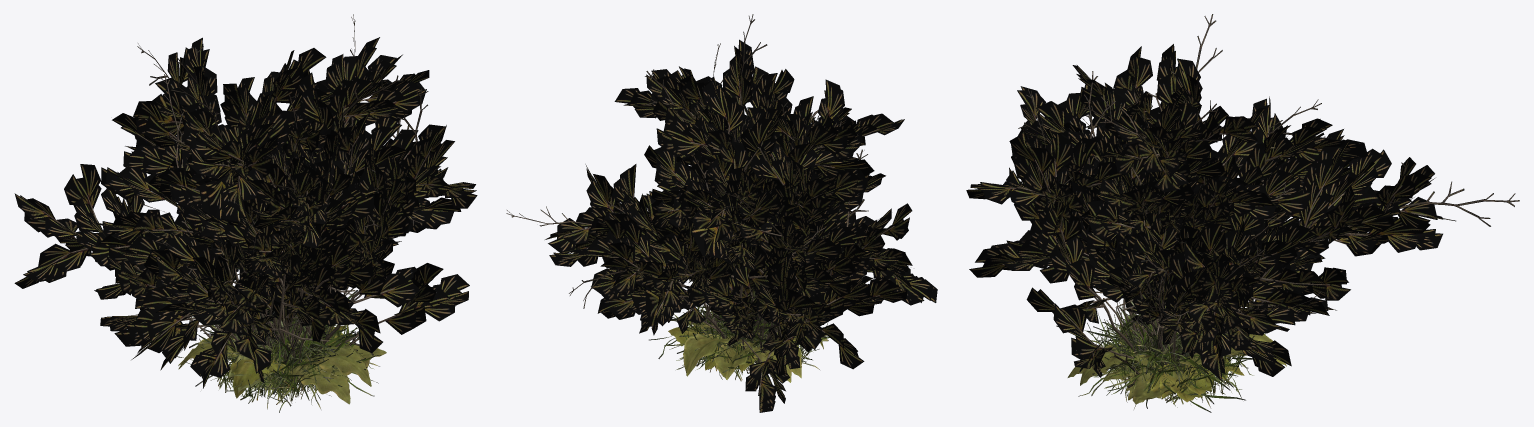
Rendered from templates.glb.
3 views of the same model, side by side, from view 1: azimuth 30°, elevation 25°; view 2: azimuth 150°, elevation 25°; view 3: azimuth 270°, elevation 25° (orthographic). The views are drawn at different scales.
Visible parts, largest first — view 1: wild_rooibos_bush/wild_rooibos_bush_a, wild_rooibos_bush/wild_rooibos_bush_b, wild_rooibos_bush/wild_rooibos_bush_c, grass_medium_01/grass_medium_01_large_a_LOD0, crystalline_iceplant/crystalline_iceplant_b_LOD0, wild_rooibos_bush/wild_rooibos_bush_d, crystalline_iceplant/crystalline_iceplant_a_LOD0, crystalline_iceplant/crystalline_iceplant_c_LOD0, grass_medium_01/grass_medium_01_large_c_LOD0, grass_medium_01/grass_medium_01_large_b_LOD0, wild_rooibos_bush/wild_rooibos_bush_e; view 2: wild_rooibos_bush/wild_rooibos_bush_a, wild_rooibos_bush/wild_rooibos_bush_b, wild_rooibos_bush/wild_rooibos_bush_c, wild_rooibos_bush/wild_rooibos_bush_d, grass_medium_01/grass_medium_01_large_a_LOD0, crystalline_iceplant/crystalline_iceplant_b_LOD0, crystalline_iceplant/crystalline_iceplant_a_LOD0, grass_medium_01/grass_medium_01_large_c_LOD0, wild_rooibos_bush/wild_rooibos_bush_e, grass_medium_01/grass_medium_01_large_b_LOD0; view 3: wild_rooibos_bush/wild_rooibos_bush_a, wild_rooibos_bush/wild_rooibos_bush_b, wild_rooibos_bush/wild_rooibos_bush_d, wild_rooibos_bush/wild_rooibos_bush_c, grass_medium_01/grass_medium_01_large_a_LOD0, crystalline_iceplant/crystalline_iceplant_a_LOD0, grass_medium_01/grass_medium_01_large_c_LOD0, grass_medium_01/grass_medium_01_large_b_LOD0, wild_rooibos_bush/wild_rooibos_bush_e, crystalline_iceplant/crystalline_iceplant_b_LOD0, crystalline_iceplant/crystalline_iceplant_c_LOD0.
Part boxes in pixels (box(x1,y1,x2,y2)): wild_rooibos_bush/wild_rooibos_bush_a: box(14, 14, 477, 388); wild_rooibos_bush/wild_rooibos_bush_b: box(100, 56, 469, 382); wild_rooibos_bush/wild_rooibos_bush_c: box(137, 145, 359, 385); grass_medium_01/grass_medium_01_large_a_LOD0: box(177, 290, 365, 412); crystalline_iceplant/crystalline_iceplant_b_LOD0: box(178, 325, 350, 404); wild_rooibos_bush/wild_rooibos_bush_d: box(204, 109, 397, 379); crystalline_iceplant/crystalline_iceplant_a_LOD0: box(178, 315, 371, 386); crystalline_iceplant/crystalline_iceplant_c_LOD0: box(229, 342, 386, 398); grass_medium_01/grass_medium_01_large_c_LOD0: box(204, 318, 380, 406); grass_medium_01/grass_medium_01_large_b_LOD0: box(189, 319, 379, 409); wild_rooibos_bush/wild_rooibos_bush_e: box(234, 240, 355, 349); wild_rooibos_bush/wild_rooibos_bush_a: box(506, 14, 937, 376); wild_rooibos_bush/wild_rooibos_bush_b: box(600, 79, 874, 412); wild_rooibos_bush/wild_rooibos_bush_c: box(602, 107, 885, 357); wild_rooibos_bush/wild_rooibos_bush_d: box(644, 145, 840, 341); grass_medium_01/grass_medium_01_large_a_LOD0: box(649, 305, 829, 381); crystalline_iceplant/crystalline_iceplant_b_LOD0: box(668, 325, 827, 379); crystalline_iceplant/crystalline_iceplant_a_LOD0: box(683, 323, 826, 382); grass_medium_01/grass_medium_01_large_c_LOD0: box(664, 310, 828, 370); wild_rooibos_bush/wild_rooibos_bush_e: box(716, 208, 839, 332); grass_medium_01/grass_medium_01_large_b_LOD0: box(665, 291, 819, 379); wild_rooibos_bush/wild_rooibos_bush_a: box(966, 58, 1519, 381); wild_rooibos_bush/wild_rooibos_bush_b: box(1026, 14, 1336, 388); wild_rooibos_bush/wild_rooibos_bush_d: box(1088, 172, 1310, 359); wild_rooibos_bush/wild_rooibos_bush_c: box(1018, 83, 1325, 369); grass_medium_01/grass_medium_01_large_a_LOD0: box(1056, 302, 1265, 412); crystalline_iceplant/crystalline_iceplant_a_LOD0: box(1080, 314, 1286, 402); grass_medium_01/grass_medium_01_large_c_LOD0: box(1092, 313, 1252, 403); grass_medium_01/grass_medium_01_large_b_LOD0: box(1078, 323, 1253, 408); wild_rooibos_bush/wild_rooibos_bush_e: box(1088, 225, 1179, 345); crystalline_iceplant/crystalline_iceplant_b_LOD0: box(1067, 325, 1246, 395); crystalline_iceplant/crystalline_iceplant_c_LOD0: box(1119, 322, 1244, 404).
Bounding box in the file's own units: 0.6966 × 0.5645 × 0.8434.
5 materials, 5 textured.
